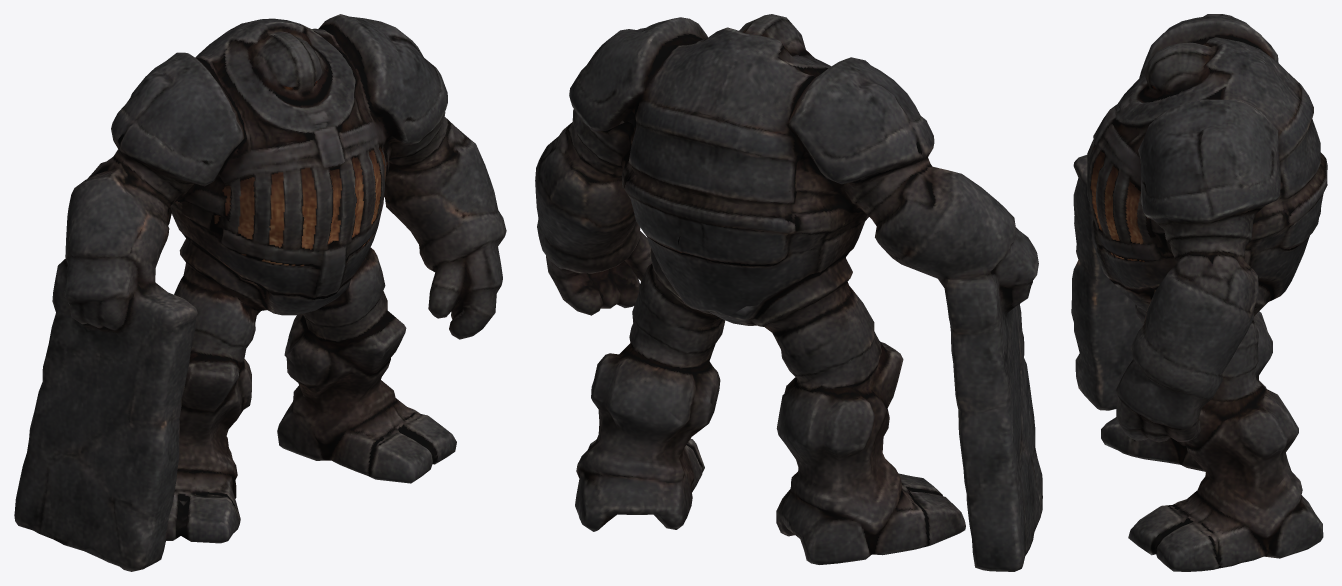
The model's file is cinder_warden_v1.glb.
The picture shows the model from 3 angles, left to right: view 1: azimuth 30°, elevation 25°; view 2: azimuth 150°, elevation 25°; view 3: azimuth 270°, elevation 25°; orthographic projection. The views are drawn at different scales.
Visible parts, largest first — view 1: cinder-warden-m0q-8000; view 2: cinder-warden-m0q-8000; view 3: cinder-warden-m0q-8000.
Boxes of the visible parts, x1,y1,x2,y2 form: cinder-warden-m0q-8000: [14, 14, 506, 571]; cinder-warden-m0q-8000: [535, 14, 1042, 571]; cinder-warden-m0q-8000: [1071, 14, 1327, 571].
Size of the model in its own units: 0.9993 by 0.9324 by 0.479.
Materials: 1 (1 with a texture image).
